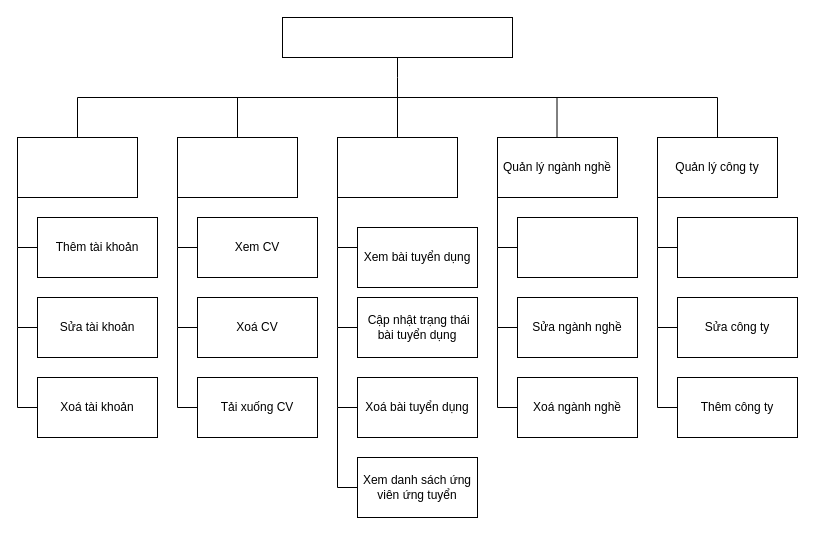
Image size: 815x535. Some labels were removed from this diagram. The centre of each missing label's shape, as x and y in pixels:
Chức năng của quản trị viên: the point at 397,37
Quản lý bài tuyển dụng: the point at 397,167
Quản lý CV: the point at 237,167
Quản lý Tài khoản người dùng: the point at 77,167
Thêm ngành nghề: the point at 577,247
Xem thông tin công ty: the point at 737,247
